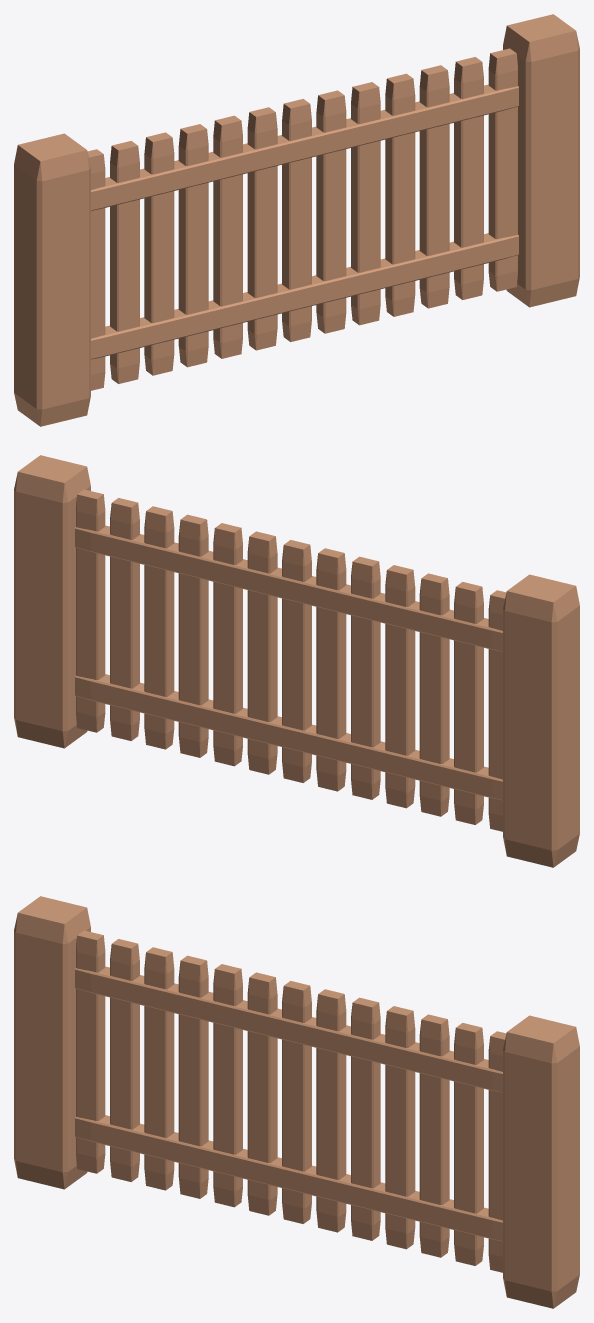
The model's file is b19_gothic_picket_fence.glb.
3 renders of one model, top to bottom at view 1: azimuth 30°, elevation 25°; view 2: azimuth 150°, elevation 25°; view 3: azimuth 330°, elevation 25°, orthographic.
Parts seen in each view (by area): view 1: b19_gothic_picket_fence; view 2: b19_gothic_picket_fence; view 3: b19_gothic_picket_fence.
Boxes of the visible parts, x1,y1,x2,y2 form: b19_gothic_picket_fence: (14, 14, 579, 426); b19_gothic_picket_fence: (14, 455, 579, 867); b19_gothic_picket_fence: (14, 896, 579, 1308).
Size of the model in its own units: 2.62 by 1.22 by 0.22.
